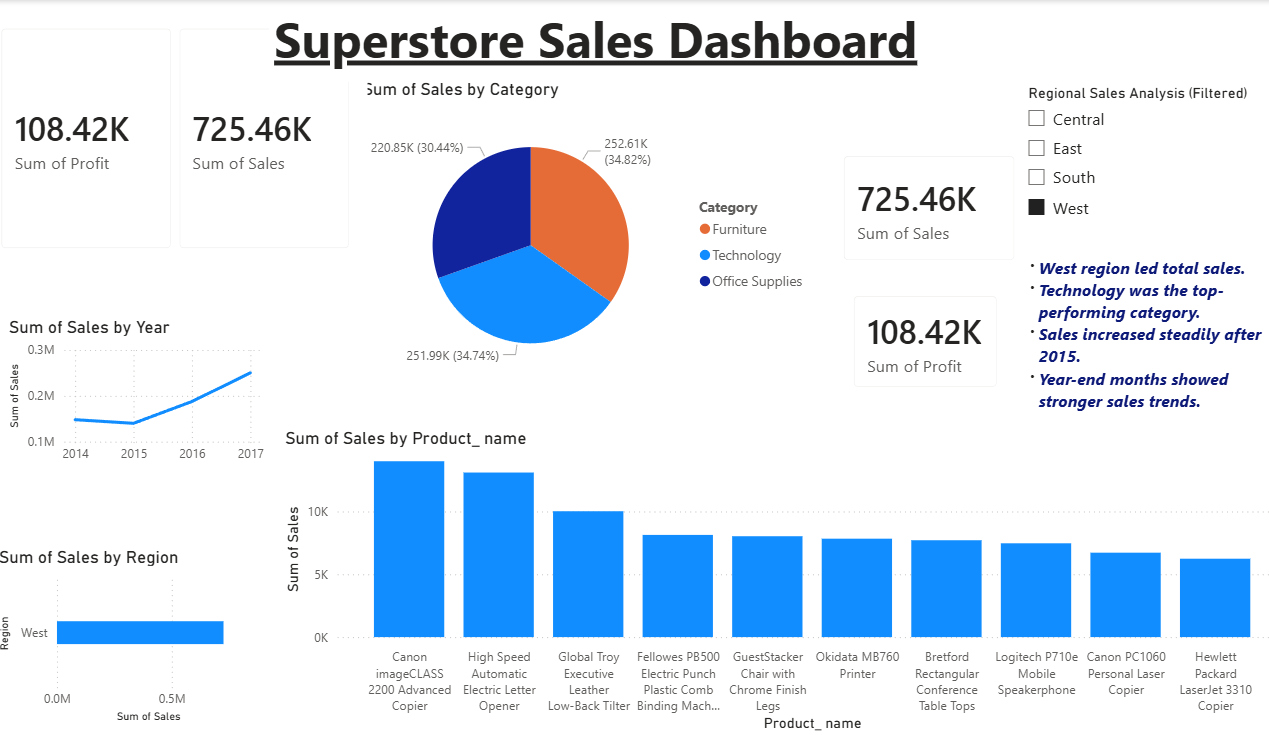

The page's visual inventory and layout, read from the dashboard file:
{"tool":"powerbi","page":{"name":"Page 1","canvas":[1280,720],"ordinal":0},"visuals":[{"type":"cardVisual","fields":{"Data":["Sum(superstore_clean_new_csv.Sales)"]},"box":[824.2,135.7,201.8,137],"z":0},{"type":"cardVisual","fields":{"Data":["Sum(superstore_clean_new_csv.Profit)"]},"box":[834,272.7,174.9,123.5],"z":1000},{"type":"clusteredBarChart","fields":{"Category":["superstore_clean_new_csv.Region"],"Y":["Sum(superstore_clean_new_csv.Sales)"]},"box":[9.8,534.4,260.5,177.3],"z":2000},{"type":"pieChart","fields":{"Category":["superstore_clean_new_csv.Category"],"Y":["Sum(superstore_clean_new_csv.Sales)"]},"box":[365.6,77,448.8,306.9],"z":3000},{"type":"lineChart","fields":{"Category":["superstore_clean_new_csv.Order_date.Variation.Date Hierarchy.Year","superstore_clean_new_csv.Order_date.Variation.Date Hierarchy.Quarter","superstore_clean_new_csv.Order_date.Variation.Date Hierarchy.Month","superstore_clean_new_csv.Order_date.Variation.Date Hierarchy.Day"],"Y":["Sum(superstore_clean_new_csv.Sales)"]},"box":[19.6,309.4,259.2,152.9],"z":4000},{"type":"cardVisual","fields":{"Data":["Sum(superstore_clean_new_csv.Profit)","Sum(superstore_clean_new_csv.Sales)"]},"box":[0,11,375.4,249.5],"z":5000},{"type":"lineStackedColumnComboChart","fields":{"Category":["superstore_clean_new_csv.Product_ name"],"Y":["Sum(superstore_clean_new_csv.Sales)"]},"box":[289.8,418.2,990.5,302],"z":6000},{"type":"slicer","fields":{"Values":["superstore_clean_new_csv.Region"]},"box":[1008.8,77,271.5,160.2],"z":7000},{"type":"textbox","box":[279.4,0,953.4,80],"z":8000},{"type":"textbox","box":[1008.8,288.6,249.5,173.6],"z":9000}]}

Visuals, with their boxes in screenshot pixels (x1, y1, x2, y2), scaled from the page's 1280x720 canvas onto the 1269x735 screenshot:
cardVisual - Sum(superstore_clean_new_csv.Sales): {"left": 817, "top": 139, "right": 1017, "bottom": 278}
cardVisual - Sum(superstore_clean_new_csv.Profit): {"left": 827, "top": 278, "right": 1000, "bottom": 404}
clusteredBarChart - superstore_clean_new_csv.Region x Sum(superstore_clean_new_csv.Sales): {"left": 10, "top": 546, "right": 268, "bottom": 727}
pieChart - superstore_clean_new_csv.Category x Sum(superstore_clean_new_csv.Sales): {"left": 362, "top": 79, "right": 807, "bottom": 392}
lineChart - superstore_clean_new_csv.Order_date.Variation.Date Hierarchy.Year x superstore_clean_new_csv.Order_date.Variation.Date Hierarchy.Quarter: {"left": 19, "top": 316, "right": 276, "bottom": 472}
cardVisual - Sum(superstore_clean_new_csv.Profit) x Sum(superstore_clean_new_csv.Sales): {"left": 0, "top": 11, "right": 372, "bottom": 266}
lineStackedColumnComboChart - superstore_clean_new_csv.Product_ name x Sum(superstore_clean_new_csv.Sales): {"left": 287, "top": 427, "right": 1268, "bottom": 734}
slicer - superstore_clean_new_csv.Region: {"left": 1000, "top": 79, "right": 1268, "bottom": 242}
textbox: {"left": 277, "top": 0, "right": 1222, "bottom": 82}
textbox: {"left": 1000, "top": 295, "right": 1247, "bottom": 472}
